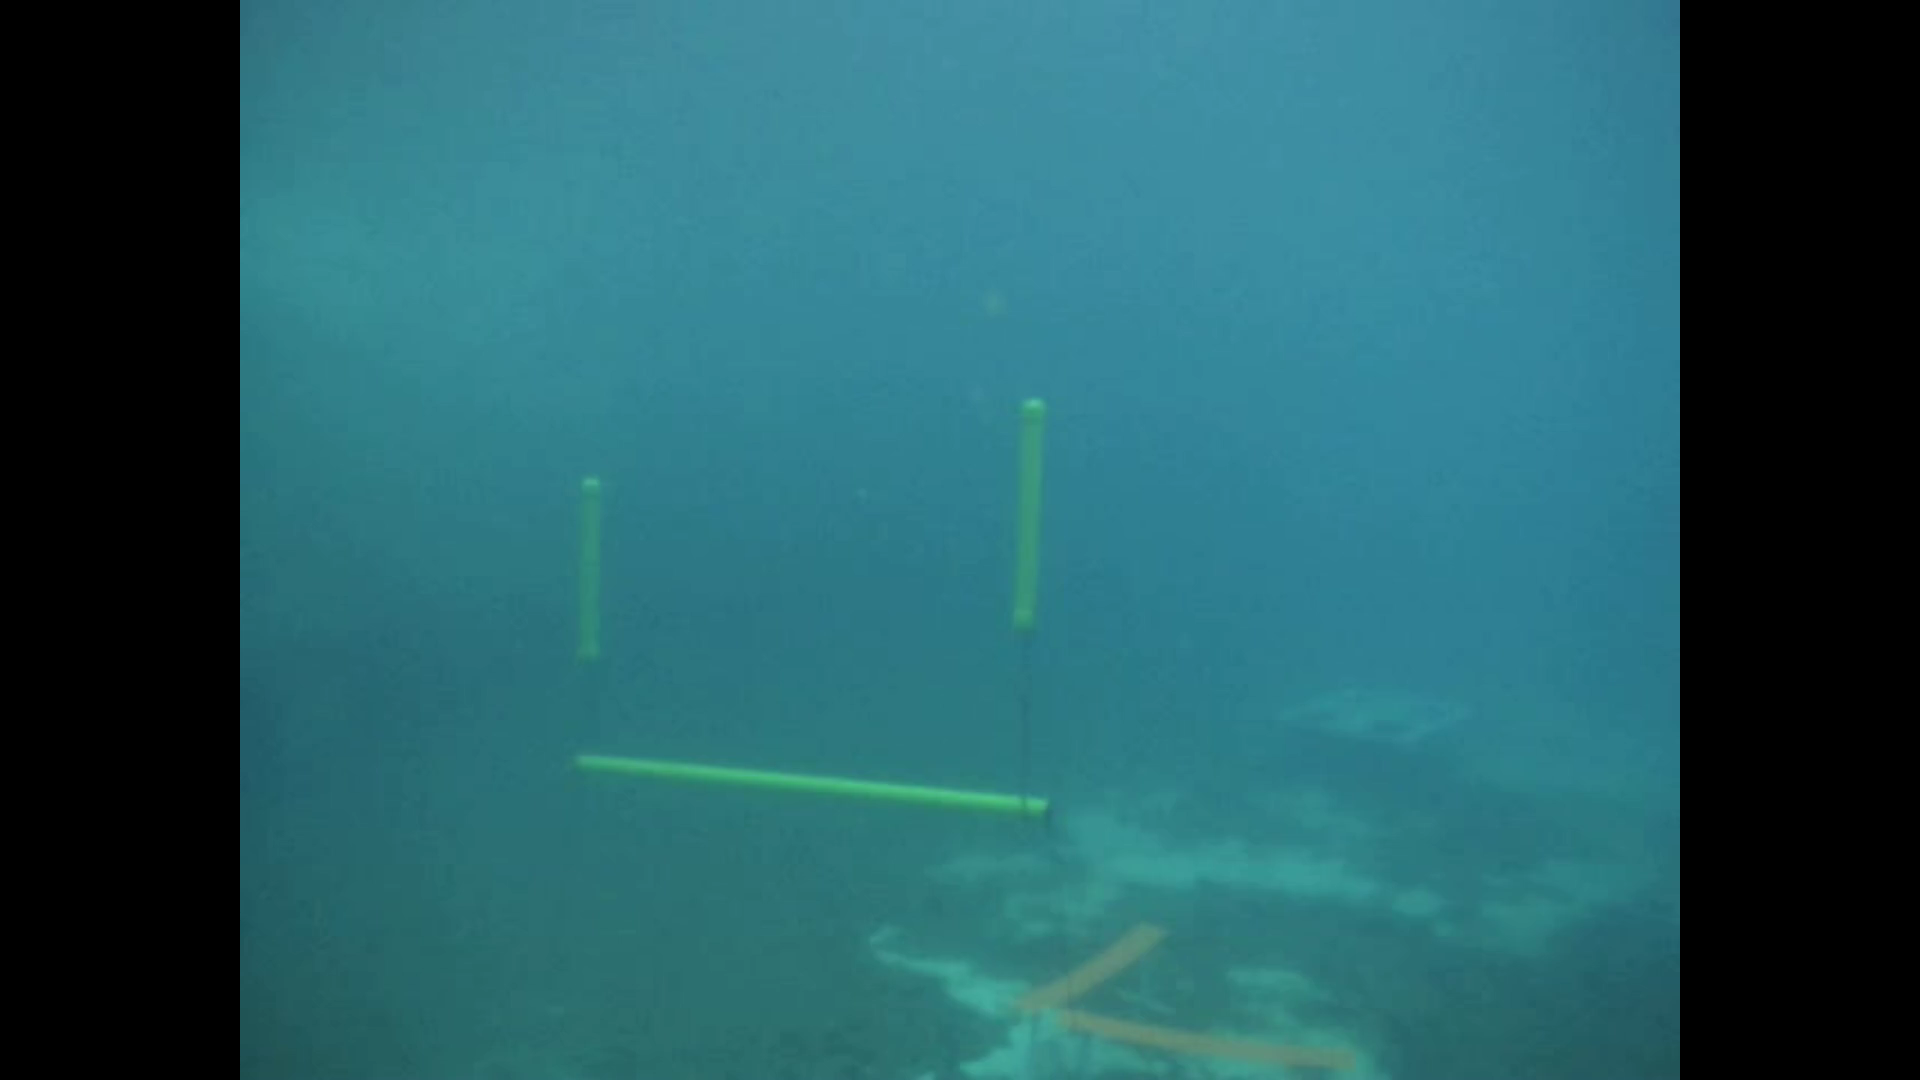gate: (556, 396, 1058, 816)
